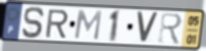1: (108, 9, 123, 45)
M: (72, 9, 103, 42)
R: (158, 12, 184, 47), (44, 9, 70, 39)
S: (21, 5, 46, 40)
V: (135, 11, 160, 45)
